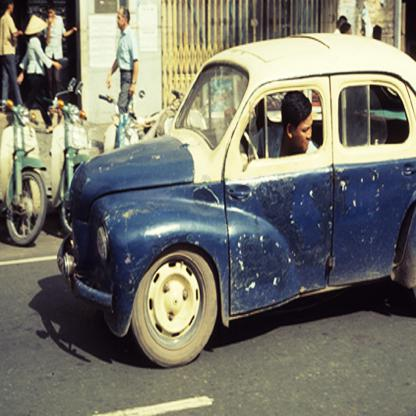Car: (56, 33, 415, 369)
